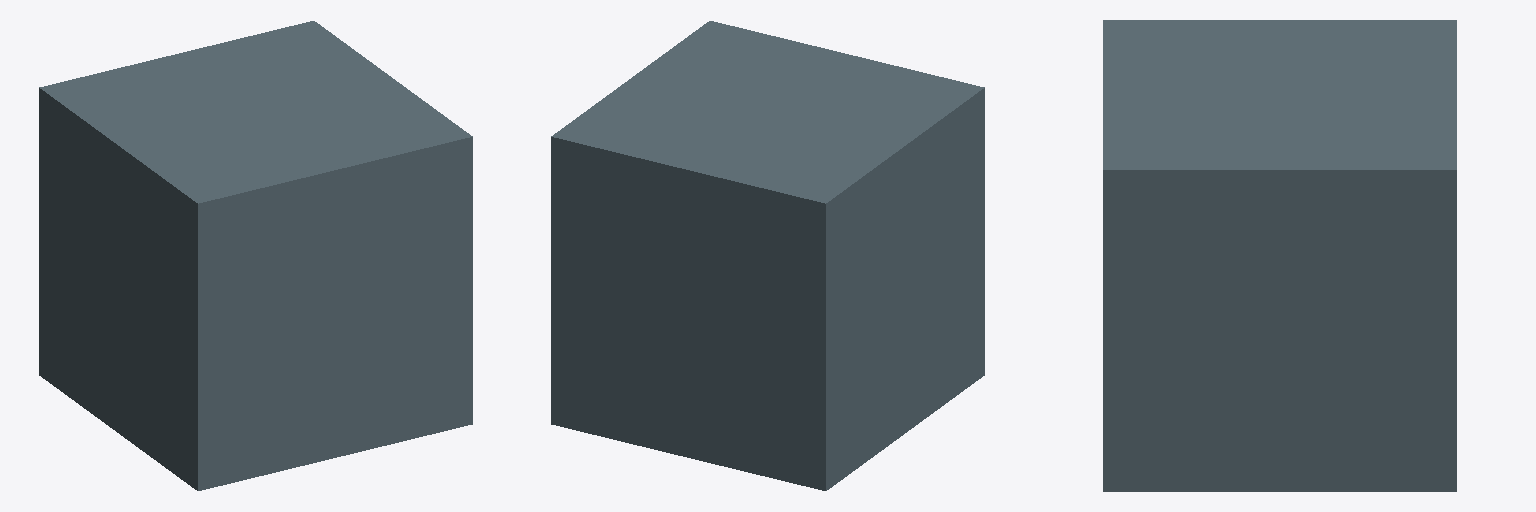
URDF robot description (box):
<?xml version="1.0"?>
<robot name="box">
<link name="world"/>
  <joint name="fixed" type="fixed">
    <parent link="world"/>
    <child link="box"/>
  </joint>
  <link name="box">
    <inertial>
     <origin
        xyz="0 0 0"
        rpy="0 0 0" />
      <mass value="1"/>
      <!-- Inertia values were calculated to be consistent with the mass and
           geometry size, assuming a uniform density. -->
      <inertia ixx="0.0108" ixy="0" ixz="0" iyy="0.0083" iyz="0" izz="0.0042"/>
    </inertial>
    <visual>
        <origin
        xyz="0 0 0"
        rpy="0 0 0" />
      <geometry>
        <box size=".1 .1 .1"/>
      </geometry>
      <material name="red">
           <color rgba="0.4196078431372549 0.48627450980392156 0.5215686274509804 1.0"/>
      </material>
    </visual>
    <collision name="box">
      <geometry>
        <box size=".1 .1 .1"/>
      </geometry>
    </collision>
  </link>
</robot>

--- Render facts (derived) ---
3 views of the same robot in one strip: view 1: azimuth 30°, elevation 25°; view 2: azimuth 150°, elevation 25°; view 3: azimuth 270°, elevation 25° (orthographic).
Model box with 2 links and 1 joints (1 fixed), rooted at world, posed every joint at zero.
Visible links, largest first — view 1: box; view 2: box; view 3: box.
Boxes of the visible links, x1=… form: box: x1=39, y1=21, x2=472, y2=490; box: x1=551, y1=21, x2=984, y2=490; box: x1=1103, y1=20, x2=1456, y2=491.
Size in the robot's own frame: 0.1 by 0.1 by 0.1 metres.
Geometry: primitives only (box / cylinder / sphere), no mesh files.